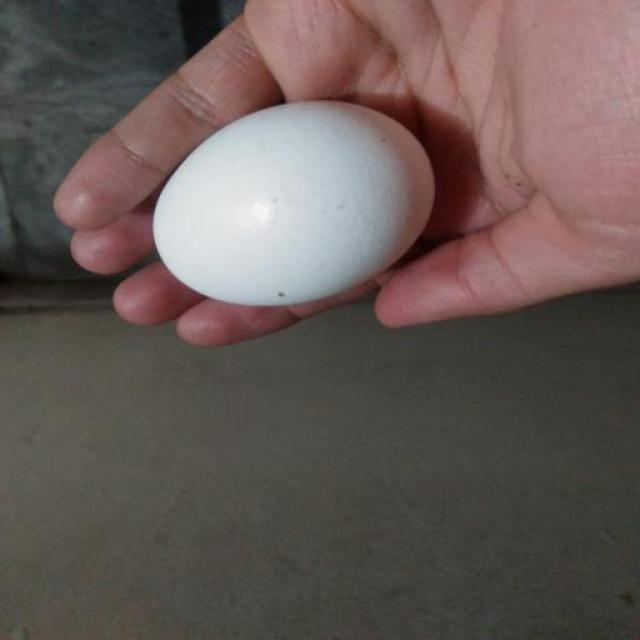telur: (155, 103, 430, 305)
